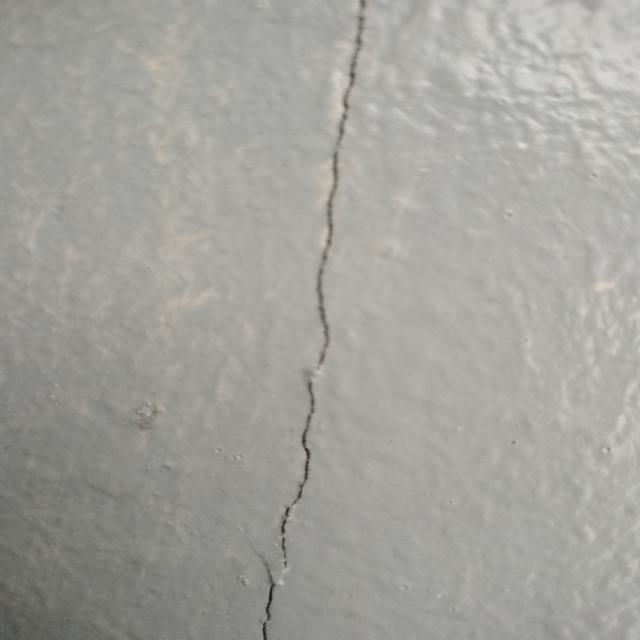Crack: (242, 3, 375, 640)
